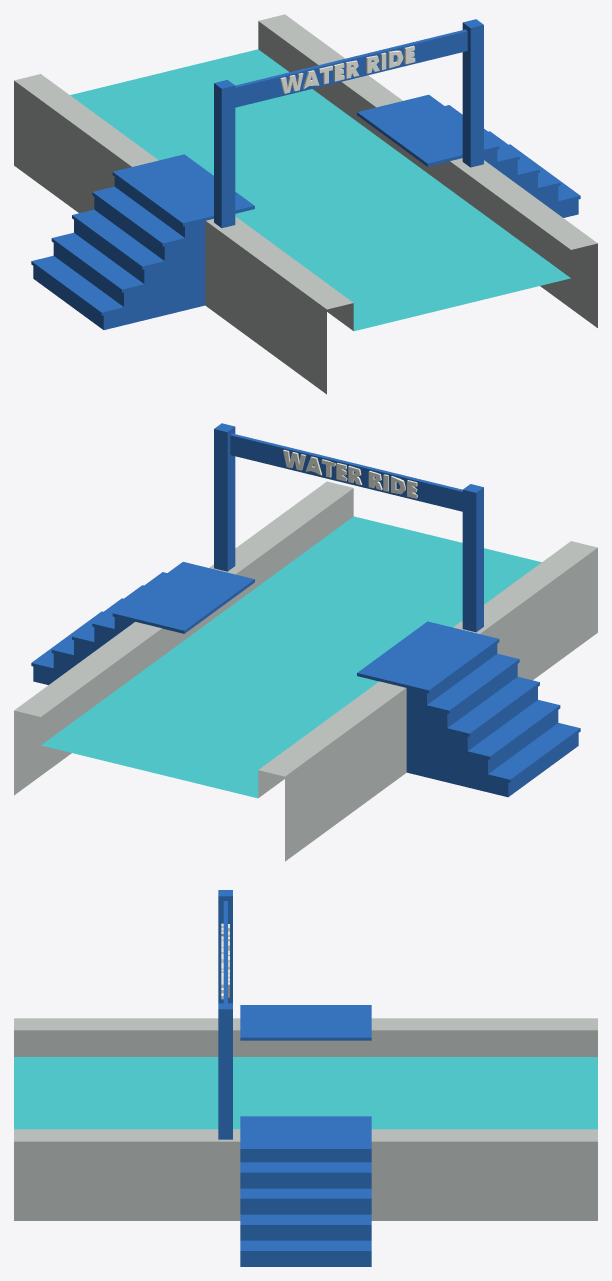
File: Water_Ride_A.fbx
The picture shows the model from 3 angles, top to bottom: view 1: azimuth 30°, elevation 25°; view 2: azimuth 150°, elevation 25°; view 3: azimuth 270°, elevation 25°; orthographic projection. The views are drawn at different scales.
Visible parts, largest first — view 1: Water_Ride_A; view 2: Water_Ride_A; view 3: Water_Ride_A.
Part boxes in pixels (x1,y1,x2,y2): Water_Ride_A: [14, 14, 597, 394]; Water_Ride_A: [14, 423, 597, 861]; Water_Ride_A: [14, 890, 597, 1266].
Bounding box in the file's own units: 707 × 317 × 800.
